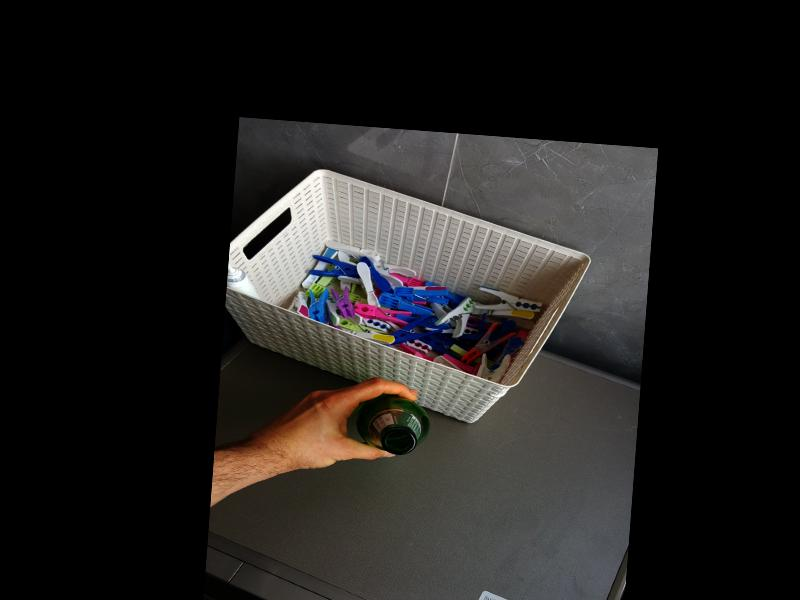Beer: (352, 392, 432, 458)
